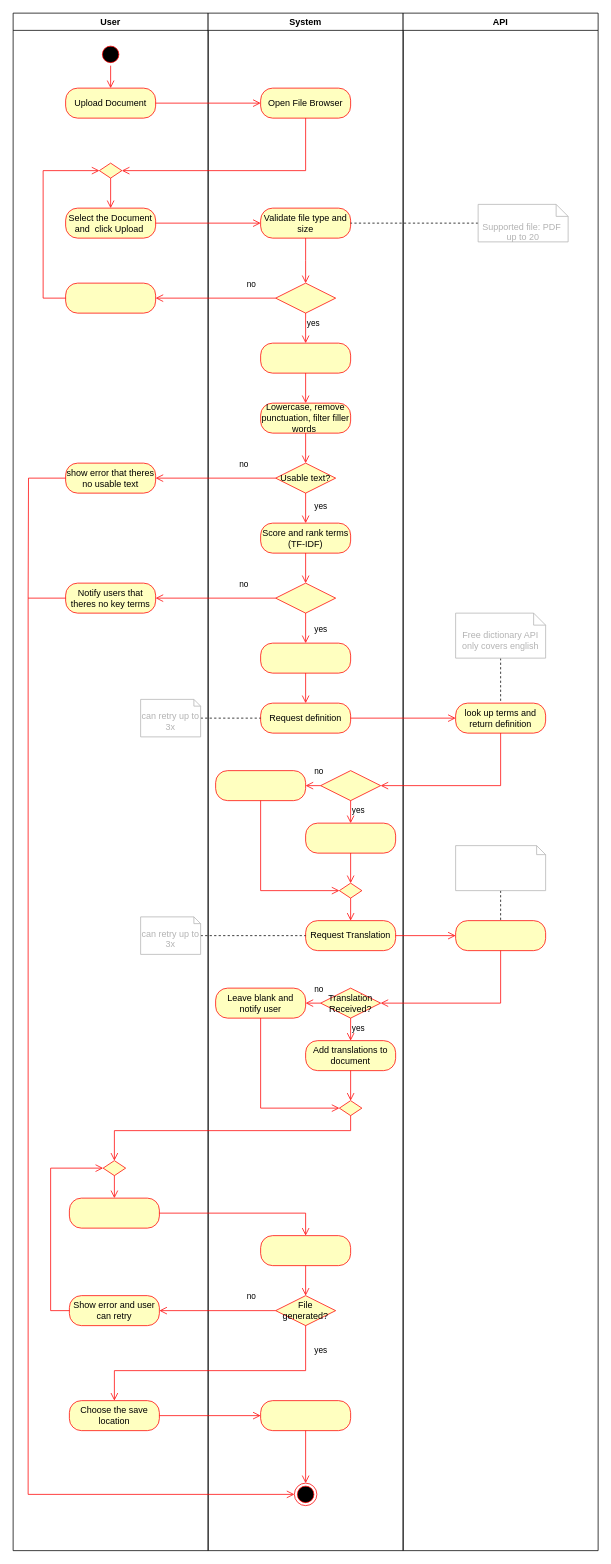
This 611x1564 diagram has some shape labels left out. The shapes that lost their labels are listed below. From the top down, each one's centre as x and y in pixels, then its label:
point (110, 297): show error and choose another file
point (305, 297): Valid file?
point (305, 357): Extract raw text from PDF
point (305, 597): Terms found?
point (305, 657): Extract context and add to document
point (260, 785): Mark as "Not Available"
point (350, 785): Definition recieved?
point (350, 837): Add definition to decument
point (500, 868): definition marked "not available" are not translated
point (500, 935): Translate the text and returns the result
point (114, 1212): Click Download
point (305, 1250): Generate the document file
point (305, 1415): Save the file to location
